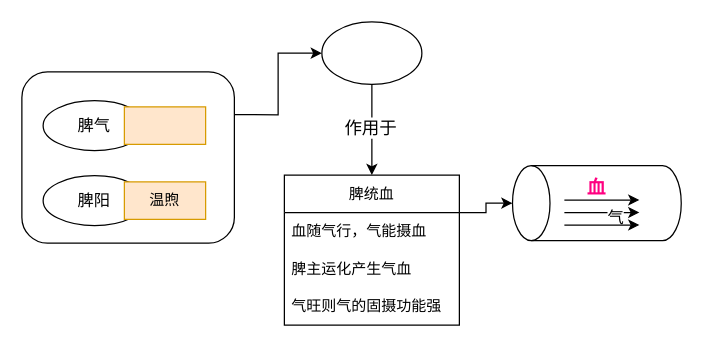
Image size: 704x348. Some labels were removed from this diagram. Each missing label, with the centre of its shape:
产生气血: (x=371, y=52)
气化和升清: (x=164, y=125)
